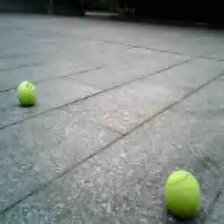tennis: (164, 171, 200, 217), (15, 81, 36, 107)
